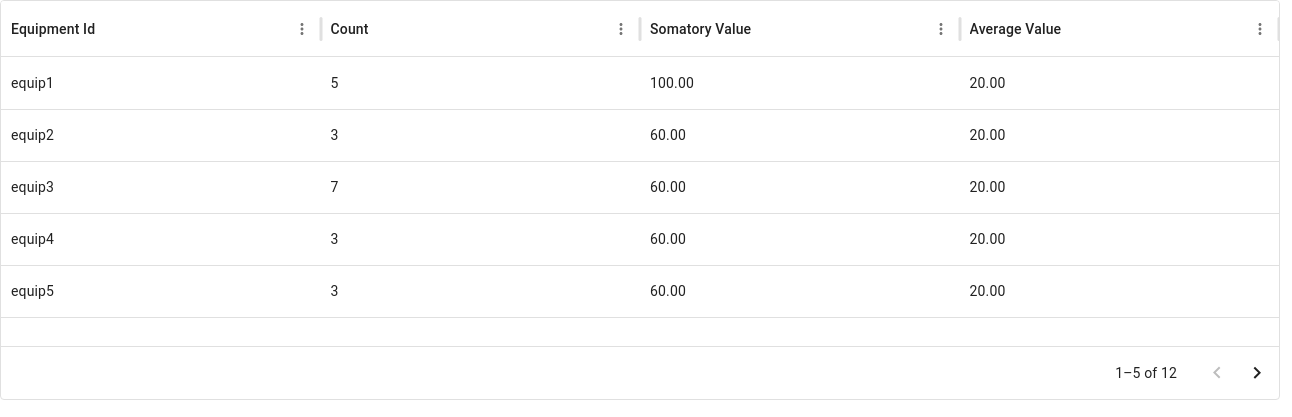
Test: SensorTable › render next page when the user click on next page button
Click the button named "next page" at {"x": 1257, "y": 373}, box [1237,353,1277,393]
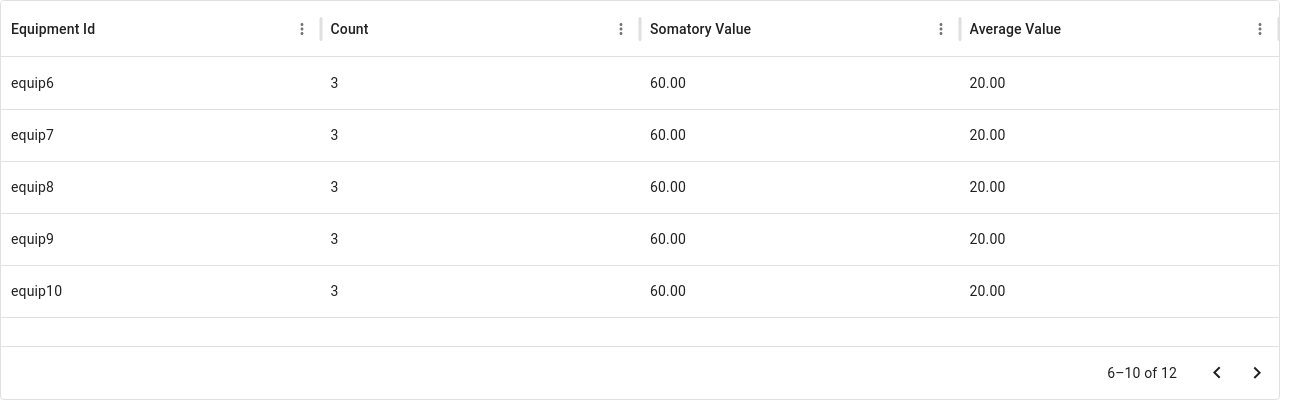
Expected: the text "equip6" is shown, [11,75,54,91]
Expected: the text "equip7" is shown, [1,109,320,161]
Expected: the text "equip8" is shown, [1,161,320,213]
